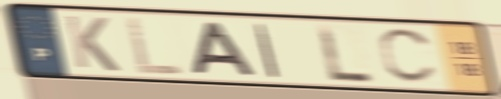A: (190, 19, 260, 79)
C: (376, 26, 440, 87)
I: (252, 21, 282, 80)
K: (61, 13, 123, 74)
L: (123, 14, 186, 77), (314, 22, 377, 84)
